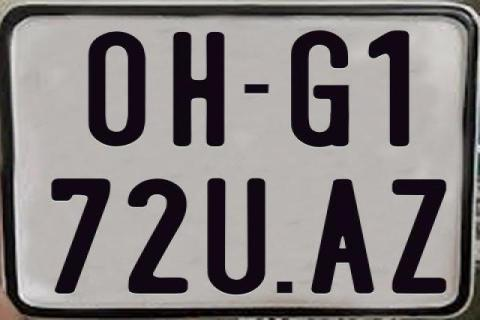0: (50, 177, 110, 297), (125, 177, 185, 293), (88, 29, 146, 145), (368, 30, 412, 150)
A: (310, 179, 374, 296)
G: (290, 31, 350, 147)
H: (171, 30, 227, 150)
U: (206, 176, 268, 297)
Z: (389, 177, 449, 295)
